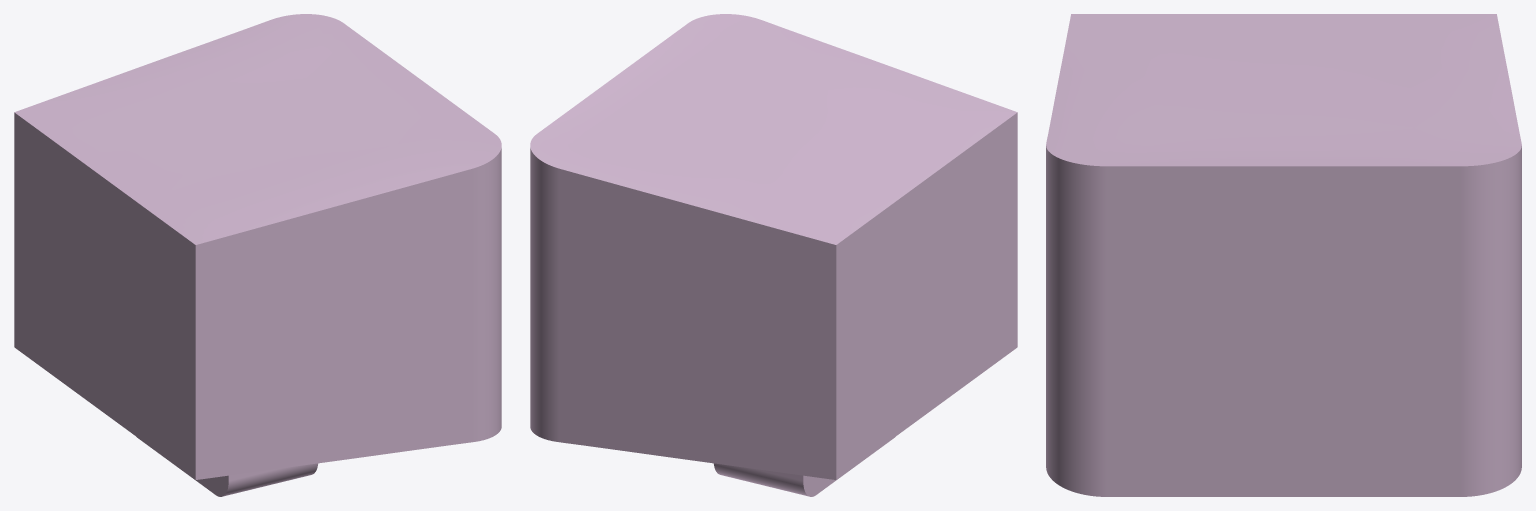
Rendered from OUTFITTING_INTERIOR__EXT. INSTRUMENTS__Searchlight D-SS PRO Driving Pod.glb.
The picture shows the model from 3 angles, left to right: view 1: azimuth 30°, elevation 25°; view 2: azimuth 150°, elevation 25°; view 3: azimuth 270°, elevation 25°; orthographic projection. The views are drawn at different scales.
Visible parts, largest first — view 1: Searchlight D-SS PRO Driving Pod; view 2: Searchlight D-SS PRO Driving Pod; view 3: Searchlight D-SS PRO Driving Pod.
Part boxes in pixels (left/top/right/bottom): Searchlight D-SS PRO Driving Pod: left=14, top=14, right=501, bottom=496; Searchlight D-SS PRO Driving Pod: left=530, top=14, right=1017, bottom=496; Searchlight D-SS PRO Driving Pod: left=1046, top=14, right=1521, bottom=496.
Bounding box in the file's own units: 0.0889 × 0.0889 × 0.0994.
